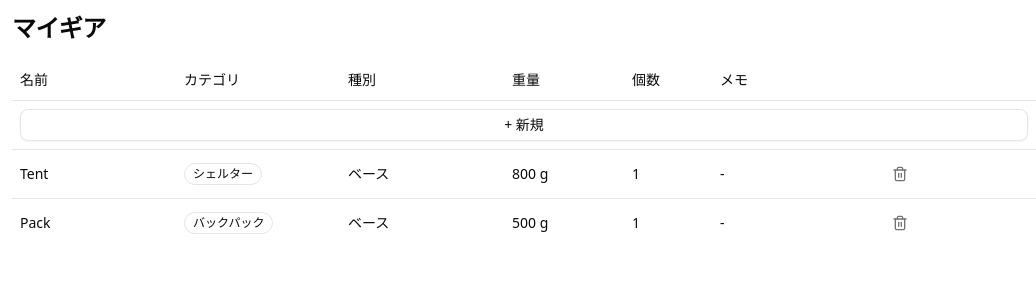
it: GearPage › keeps editing same row when validation error exists
The image size is (1036, 295).
Step 1. Click the button "Tent" → coordinates (34, 173), box [12, 149, 176, 198]
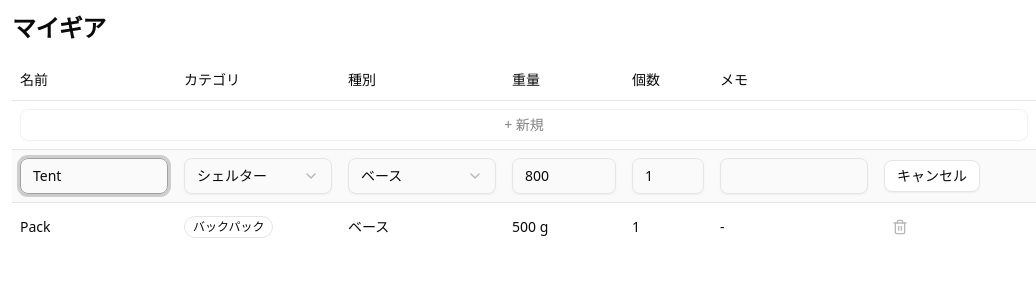
Step 2. Clear the field named "編集名前" → coordinates (94, 176), box [20, 158, 168, 194]
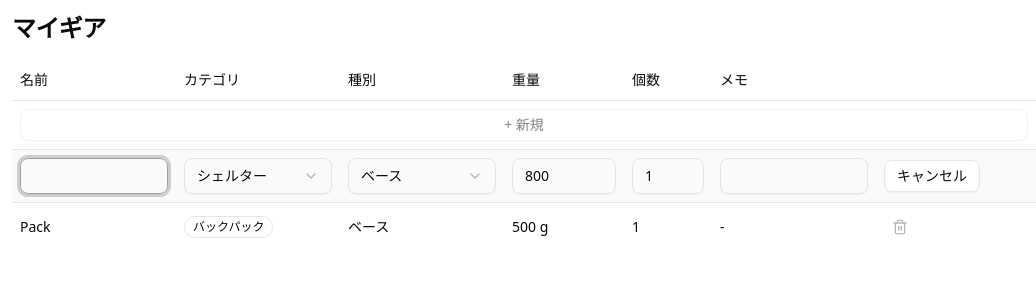
Step 3. Click the button "Pack" → coordinates (35, 226), box [12, 202, 176, 250]
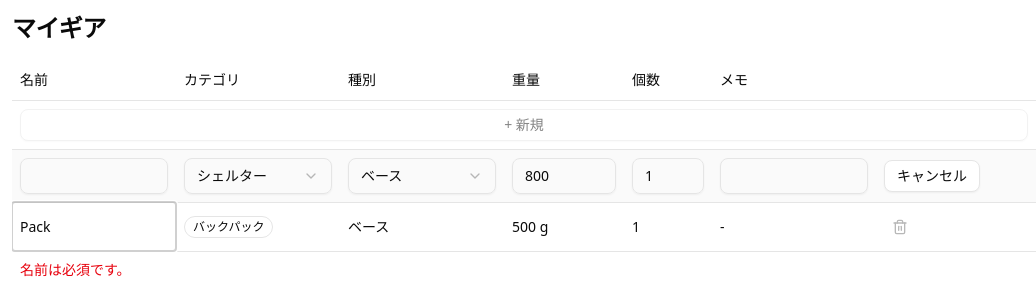
Result: the text "名前は必須です。" is shown at [20, 260, 131, 278]
